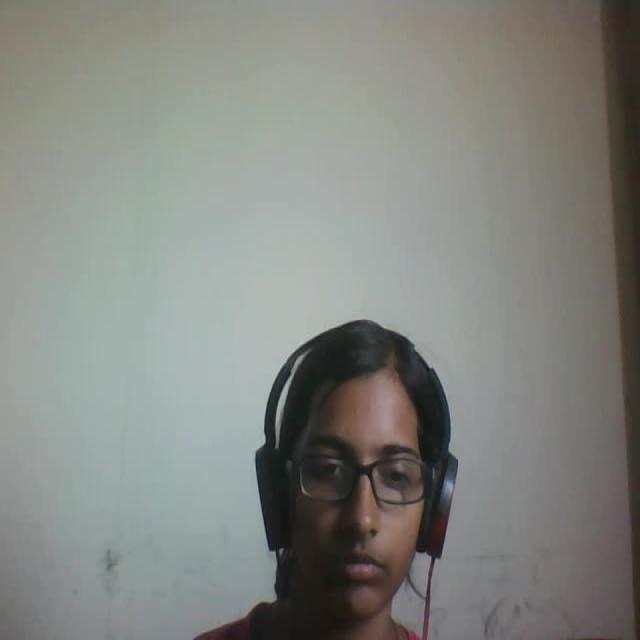Bored: (234, 276, 496, 640)
